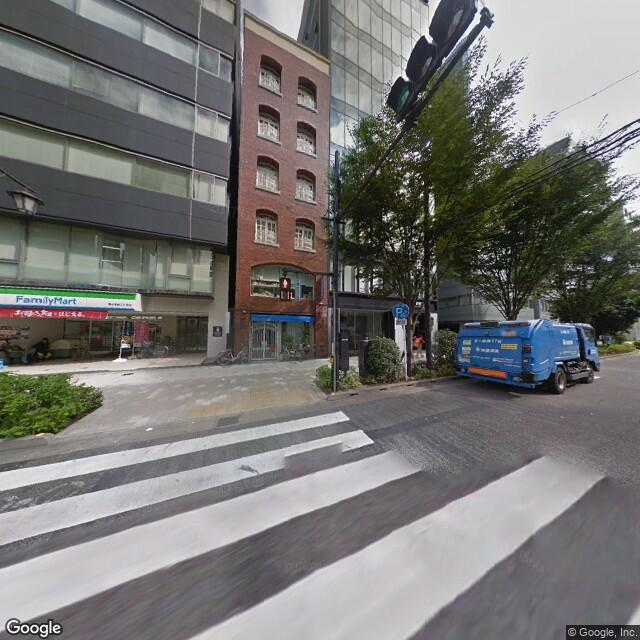family_mart: (1, 281, 139, 315), (13, 289, 78, 310)
